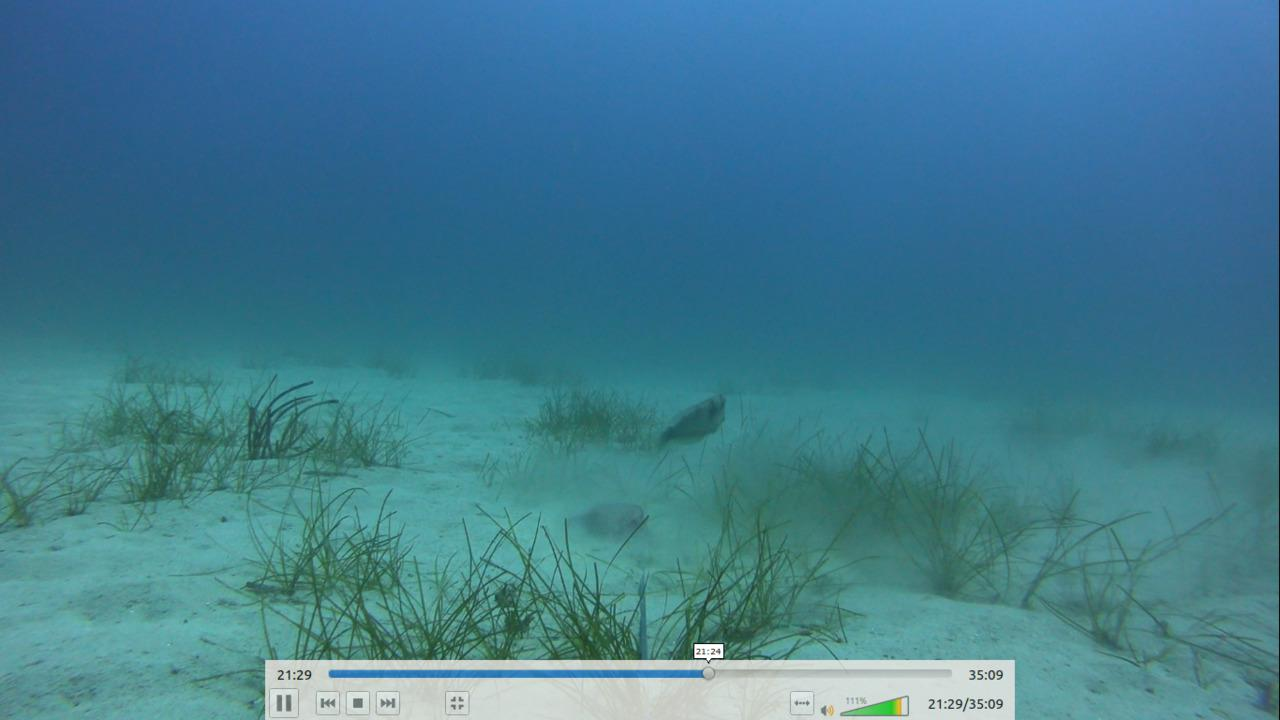raor: (649, 390, 725, 453)
